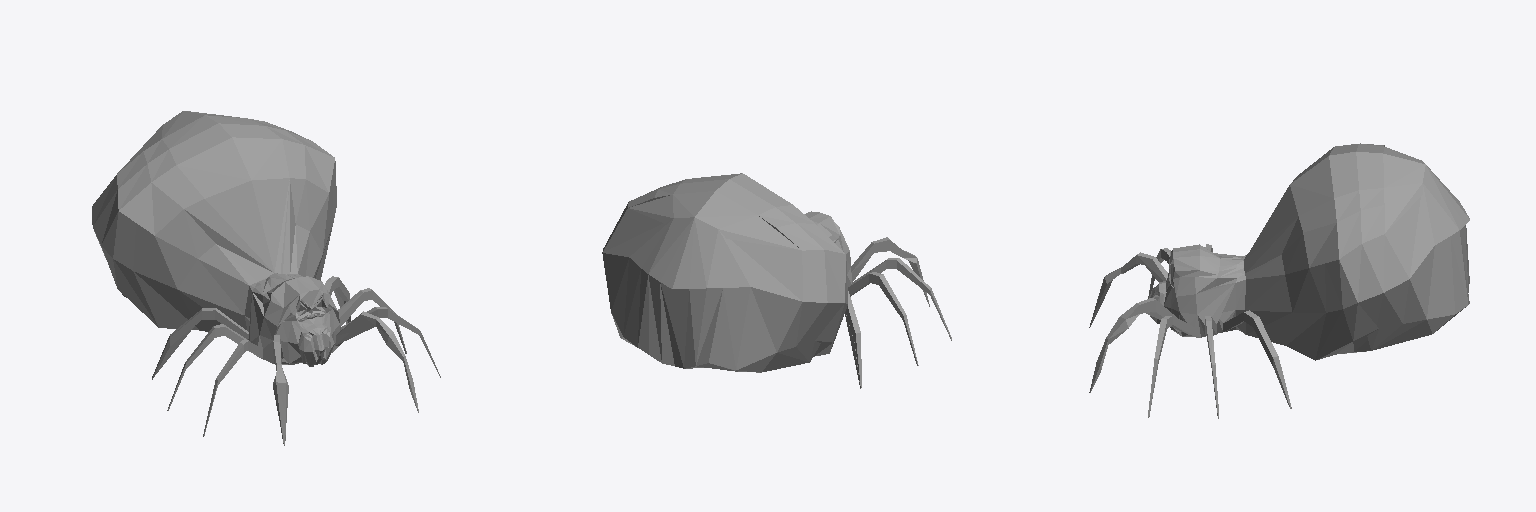
Rendered from Spider.obj.
The picture shows the model from 3 angles: view 1: azimuth 30°, elevation 25°; view 2: azimuth 150°, elevation 25°; view 3: azimuth 270°, elevation 25°; orthographic projection.
Parts seen in each view (by area): view 1: Front_Body_Spider; view 2: Front_Body_Spider; view 3: Front_Body_Spider.
Boxes of the visible parts, x1,y1,x2,y2 form: Front_Body_Spider: [92, 111, 440, 445]; Front_Body_Spider: [602, 173, 951, 388]; Front_Body_Spider: [1089, 143, 1469, 418].
Size of the model in its own units: 7.39 by 6.17 by 10.18.